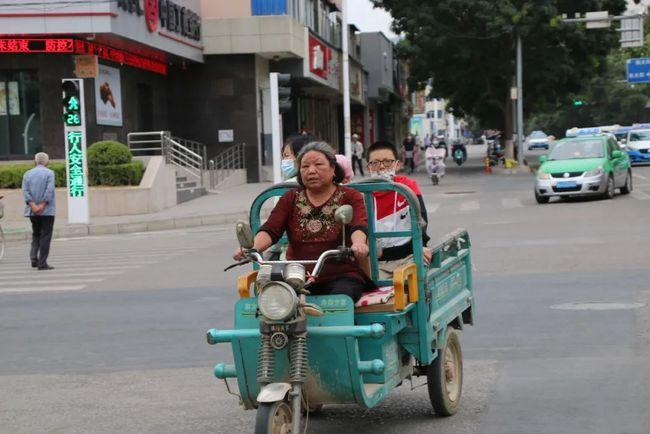driver: (261, 139, 367, 296)
overloading: (209, 148, 464, 434)
passenger: (352, 136, 427, 262)
